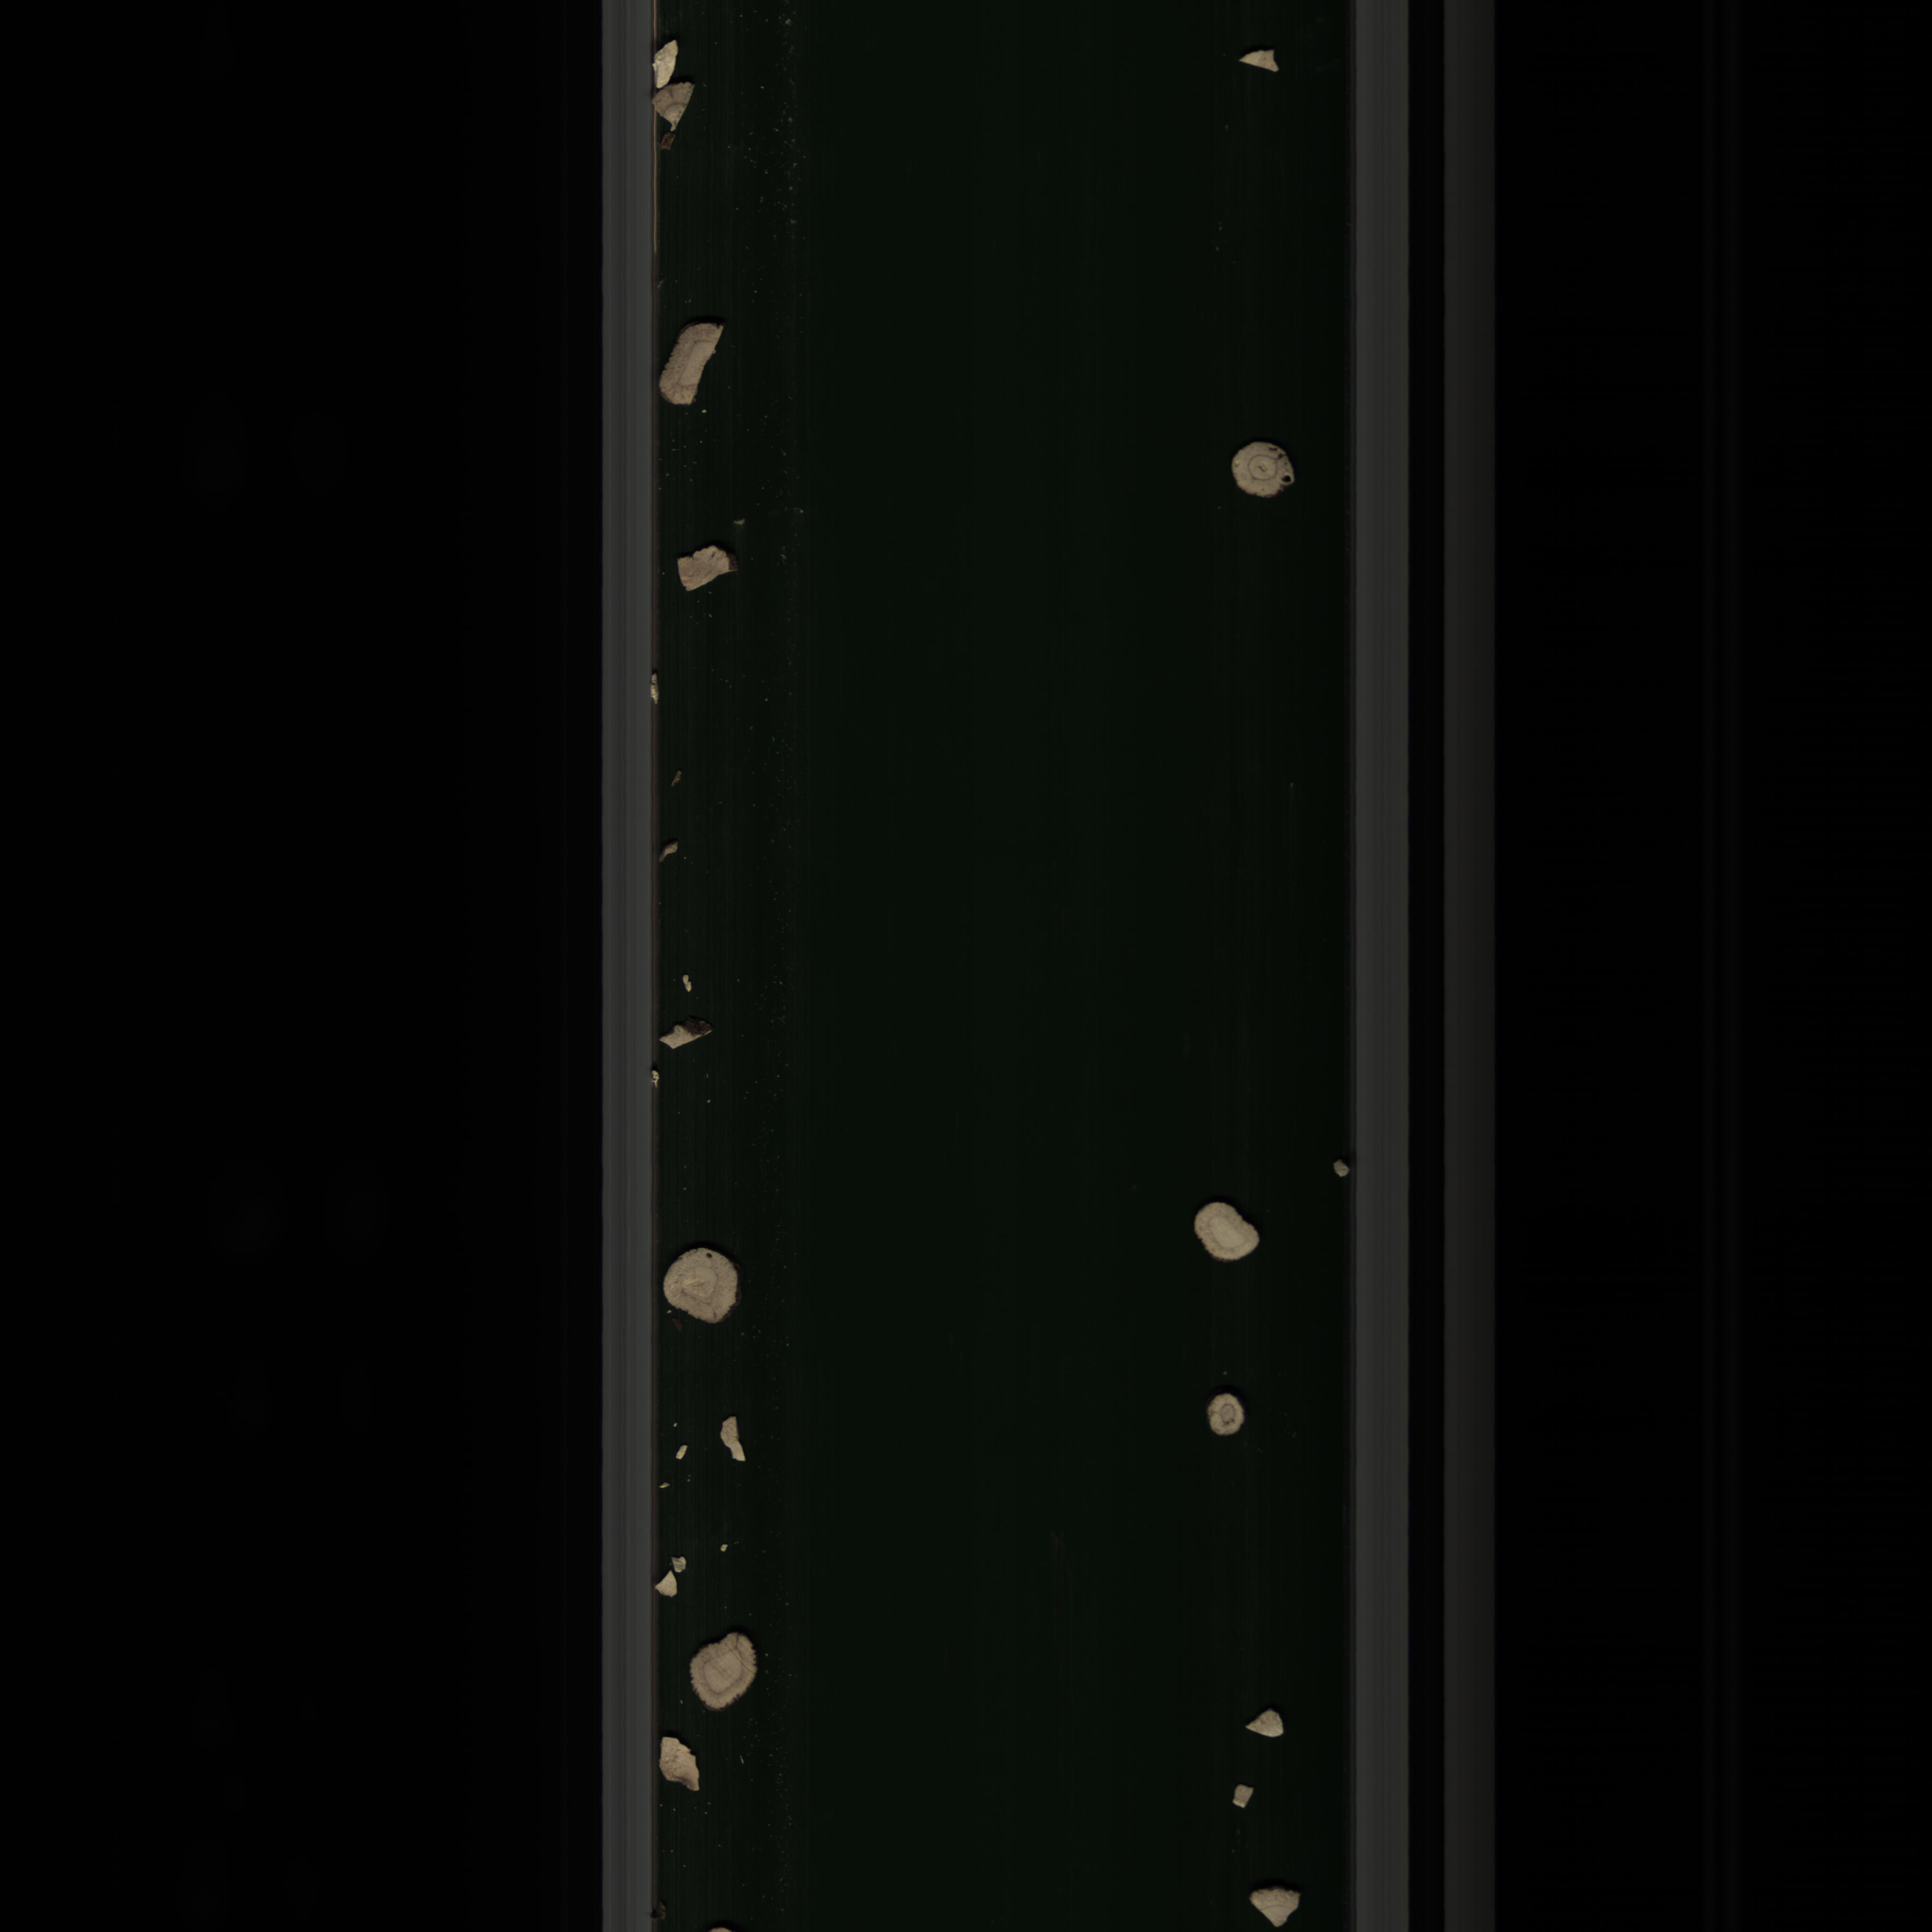debris: (658, 313, 722, 407), (669, 541, 752, 602), (653, 32, 695, 136), (1238, 1881, 1313, 1932), (658, 1729, 708, 1796), (1233, 42, 1297, 83), (651, 1553, 699, 1606), (1238, 1704, 1299, 1744), (713, 1408, 750, 1470), (658, 1016, 715, 1053), (1224, 1782, 1263, 1817)
hole: (1221, 437, 1309, 511)
moldy: (1203, 1392, 1254, 1440)
